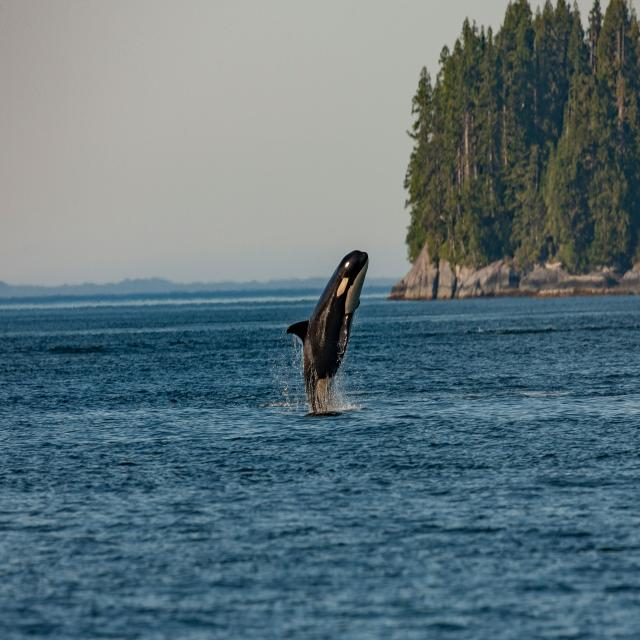ballena: (286, 251, 368, 414)
